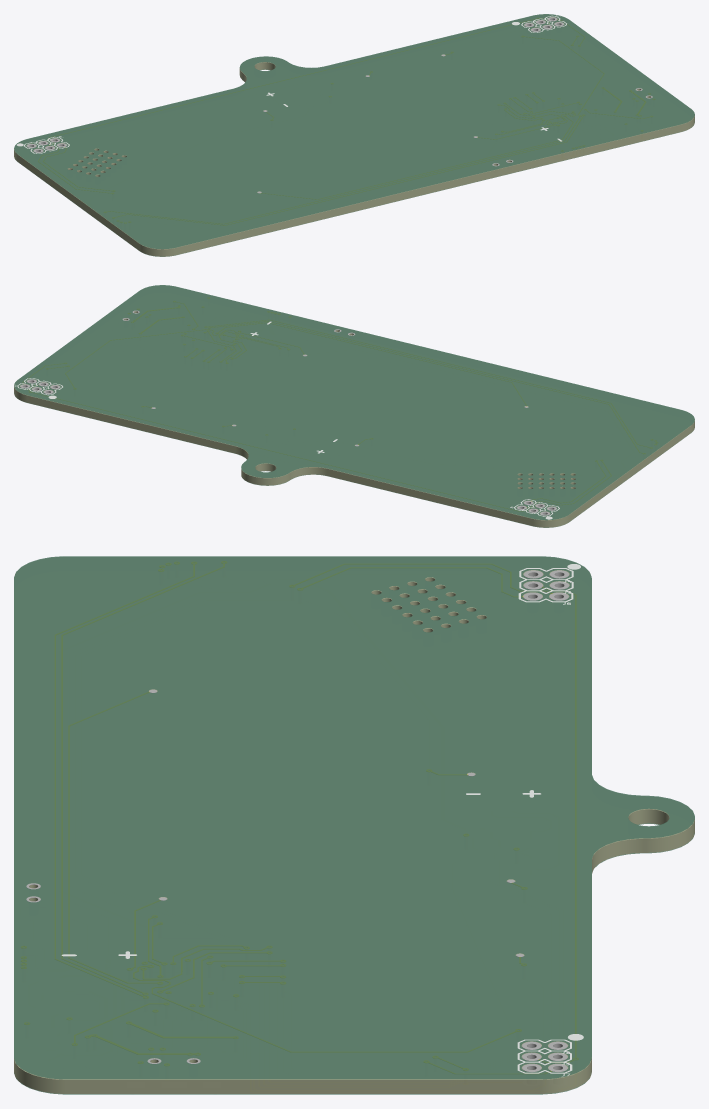
File: numberwang-badge.glb
The picture shows the model from 3 angles, top to bottom: view 1: azimuth 30°, elevation 25°; view 2: azimuth 150°, elevation 25°; view 3: azimuth 270°, elevation 25°; orthographic projection. The views are drawn at different scales.
Parts seen in each view (by area): view 1: =>[0:1:1:7], =>[0:1:1:9], =>[0:1:1:2], =>[0:1:1:5]; view 2: =>[0:1:1:7], =>[0:1:1:9], =>[0:1:1:2], =>[0:1:1:5]; view 3: =>[0:1:1:7], =>[0:1:1:9], =>[0:1:1:2], =>[0:1:1:5].
Boxes of the visible parts, x1=… form: =>[0:1:1:7]: x1=14, y1=14, x2=694, y2=256; =>[0:1:1:9]: x1=14, y1=15, x2=694, y2=256; =>[0:1:1:2]: x1=26, y1=17, x2=652, y2=222; =>[0:1:1:5]: x1=17, y1=15, x2=566, y2=153; =>[0:1:1:7]: x1=14, y1=285, x2=694, y2=527; =>[0:1:1:9]: x1=14, y1=286, x2=694, y2=527; =>[0:1:1:2]: x1=20, y1=301, x2=656, y2=515; =>[0:1:1:5]: x1=14, y1=321, x2=559, y2=519; =>[0:1:1:7]: x1=14, y1=556, x2=694, y2=1094; =>[0:1:1:9]: x1=14, y1=557, x2=694, y2=1093; =>[0:1:1:2]: x1=21, y1=561, x2=578, y2=1073; =>[0:1:1:5]: x1=61, y1=564, x2=583, y2=1076.
Size of the model in its own units: 0.12 by 0.00166 by 0.066.
Materials: 4 (4 with a texture image).
